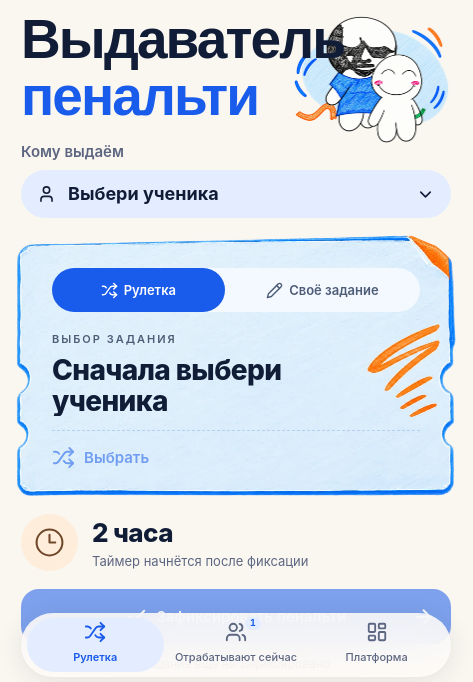
Test: an active custom task shows its complete text once in the selected card
Select "@demo_peer" in the dropdown labelled "Кому выдаём": (236, 194) x1=66 y1=170 x2=406 y2=218
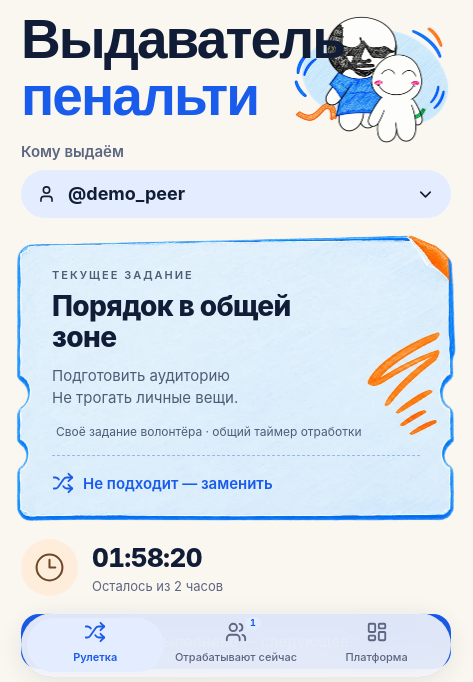
expect the text "Подготовить аудиторию Не трогать личные вещи." is shown once: met, box x1=52 y1=366 x2=238 y2=407
expect the element that starts with "Порядок в общей зоне" shows "Подготовить аудиторию Не трогать личные вещи.": met, box x1=52 y1=366 x2=238 y2=407
